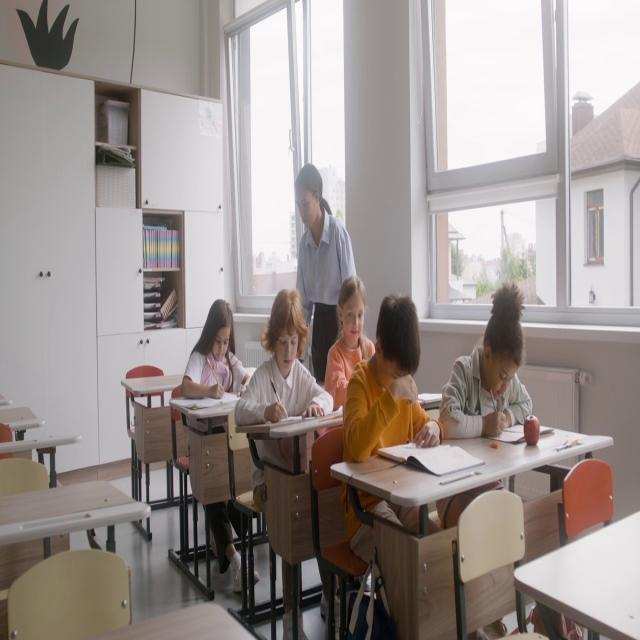reading: (328, 276, 378, 436)
writing: (356, 295, 463, 623), (181, 302, 259, 594), (237, 288, 332, 483), (440, 283, 533, 442)
